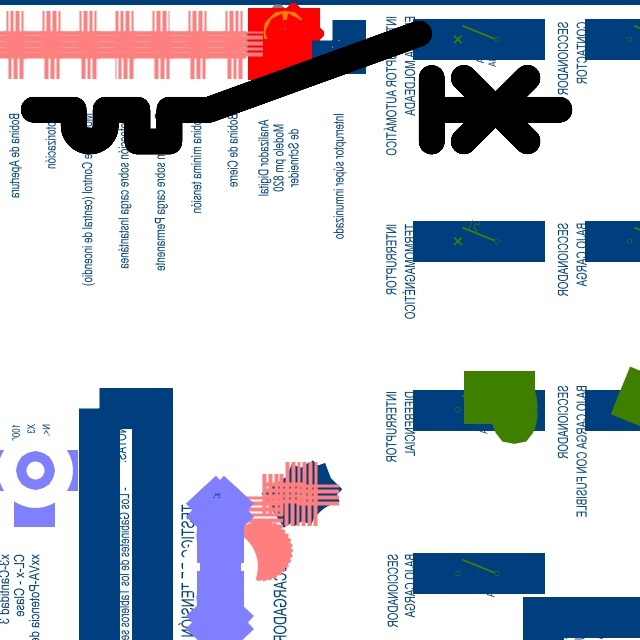interruptor_termomagnetico: (20, 20, 573, 155)
